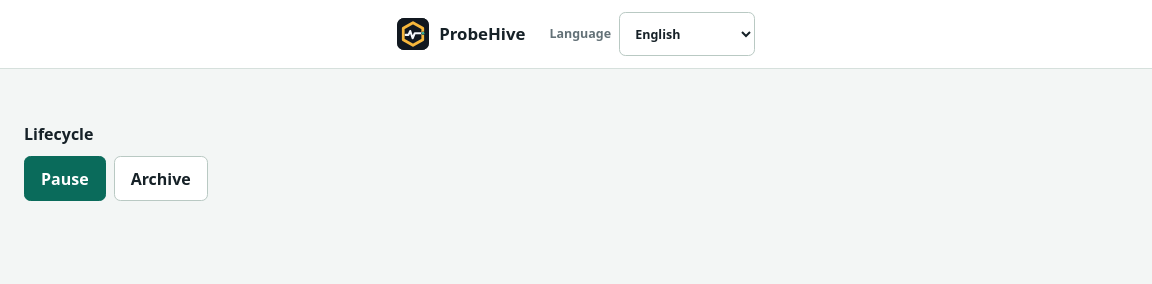
Scenario: localizes a rejected transition and leaves the action available for retry
Click the button "Pause" at [65, 179], box left=24, top=156, right=106, bottom=201
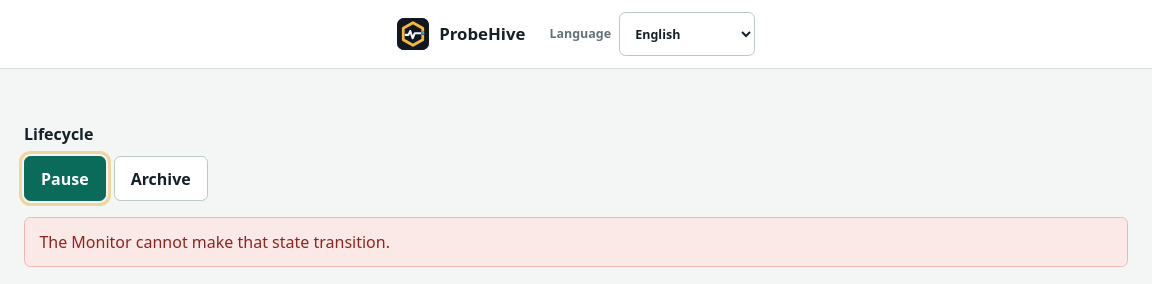
expect the text "The Monitor cannot make that state transition." is shown: met, box left=24, top=217, right=1128, bottom=267
